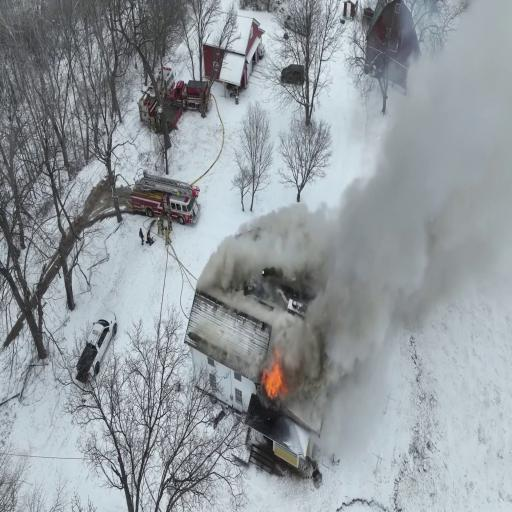fire: (261, 358, 284, 406)
smoke: (228, 244, 392, 310)
